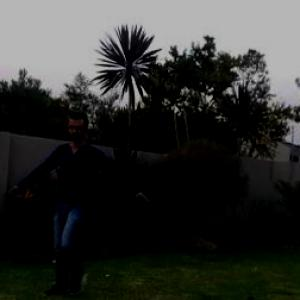land: (7, 112, 155, 293)
